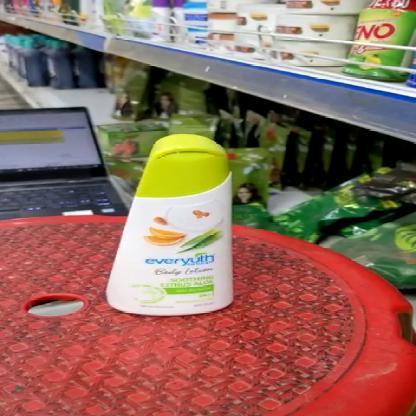Everyuth Naturals Body Lotion Soothing Citrus 200ml: (100, 130, 242, 320)
